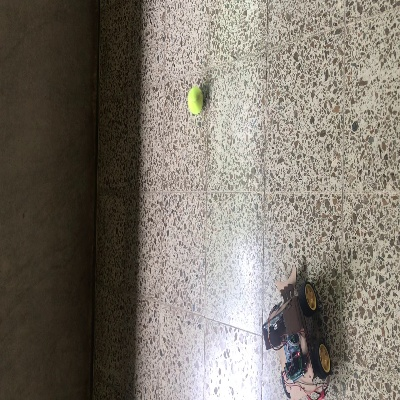Ball: (186, 87, 202, 114)
Robot: (260, 264, 332, 398)
